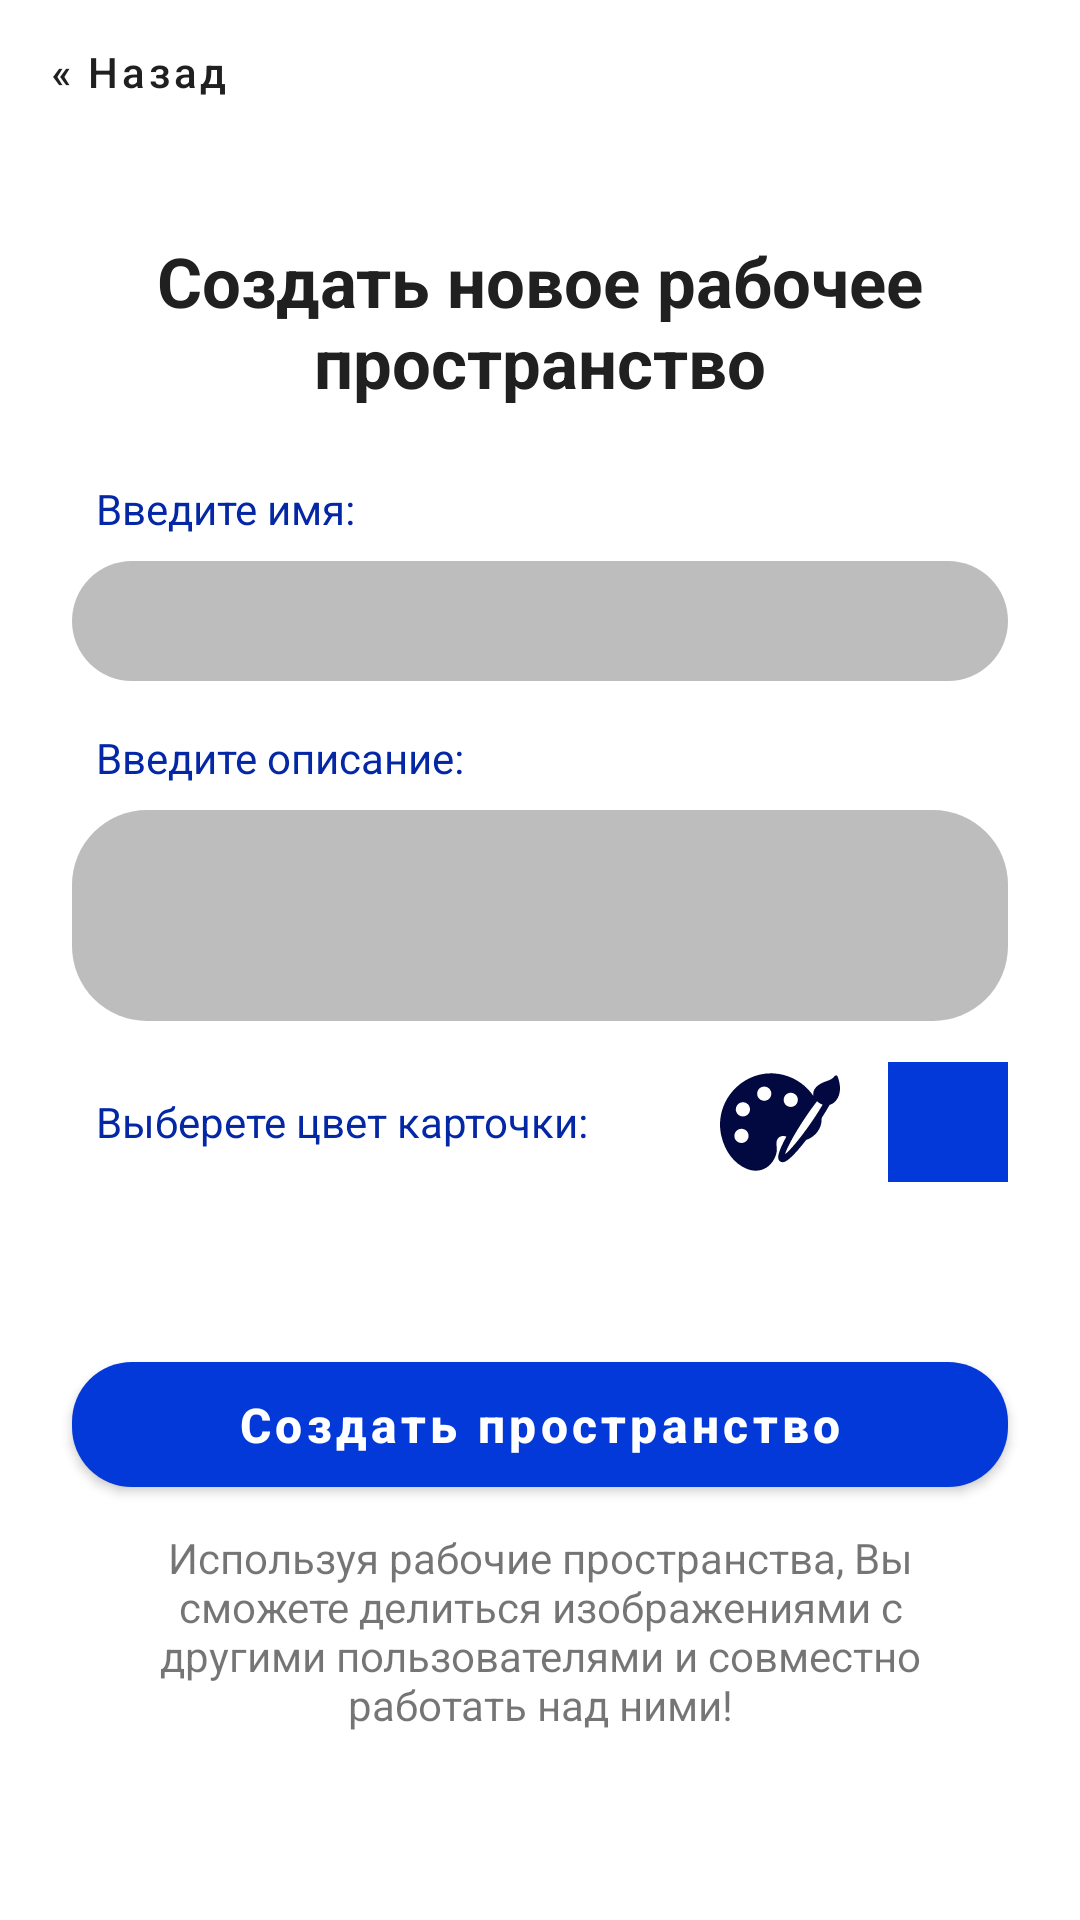

Named icons in this screenshot (1080 x 1920) and their centers, point (x, y):
paint board and brush: point (780, 1122)
